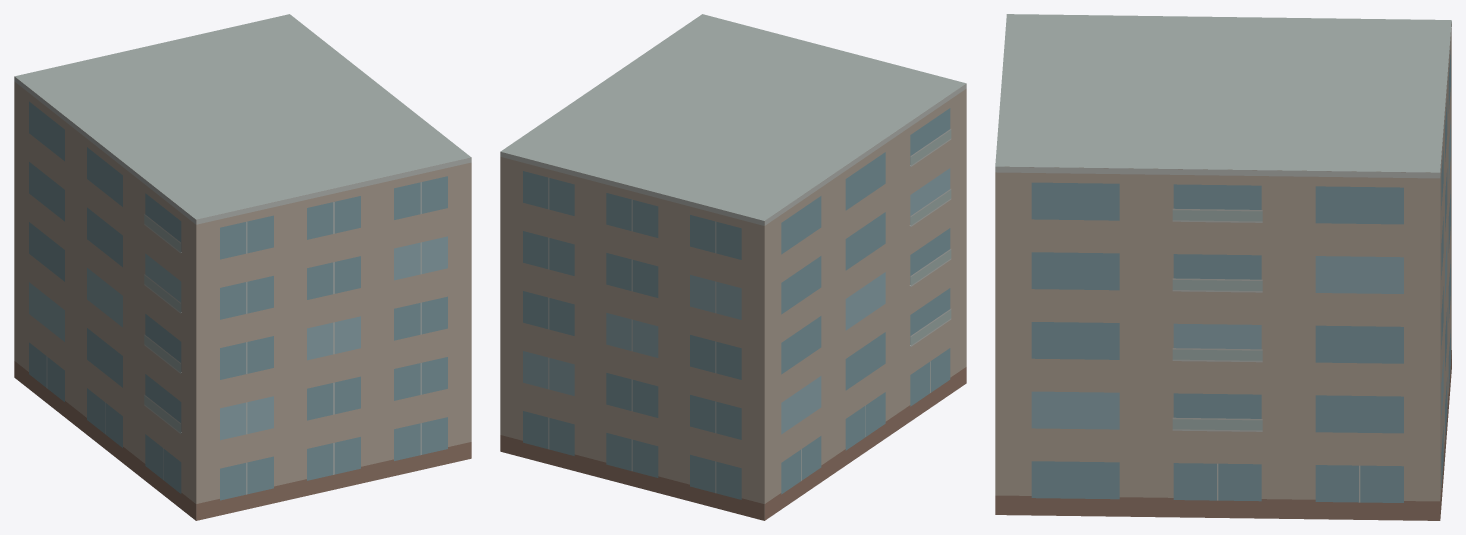
The model's file is survey-upis-32874850.glb.
The picture shows the model from 3 angles, left to right: view 1: azimuth 30°, elevation 25°; view 2: azimuth 150°, elevation 25°; view 3: azimuth 270°, elevation 25°; orthographic projection. The views are drawn at different scales.
Visible parts, largest first — view 1: survey-upis-32874850.tmp; view 2: survey-upis-32874850.tmp; view 3: survey-upis-32874850.tmp.
Part boxes in pixels (box(x1,y1,x2,y2)): survey-upis-32874850.tmp: box(14, 14, 471, 520); survey-upis-32874850.tmp: box(500, 14, 966, 520); survey-upis-32874850.tmp: box(995, 14, 1451, 520).
Size of the model in its own units: 14.14 by 14.47 by 17.2.
